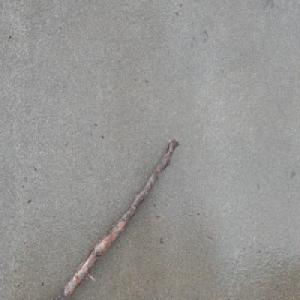Wood: (44, 136, 179, 300)
